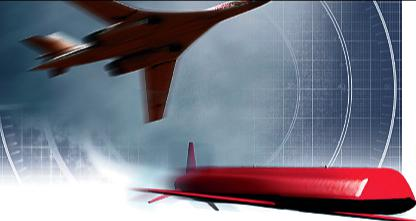Su34: (18, 0, 282, 123)
